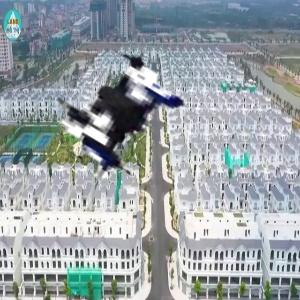drone: (51, 27, 255, 231)
